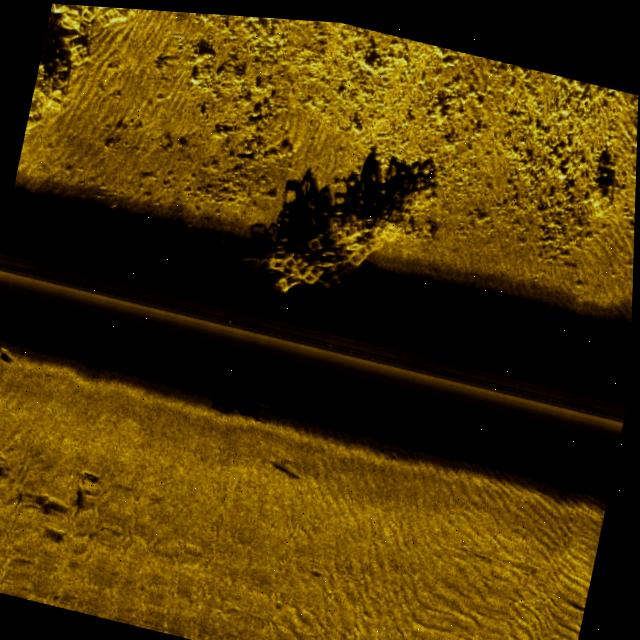artificial reef: (227, 110, 488, 333), (26, 2, 137, 147), (203, 350, 311, 423)
